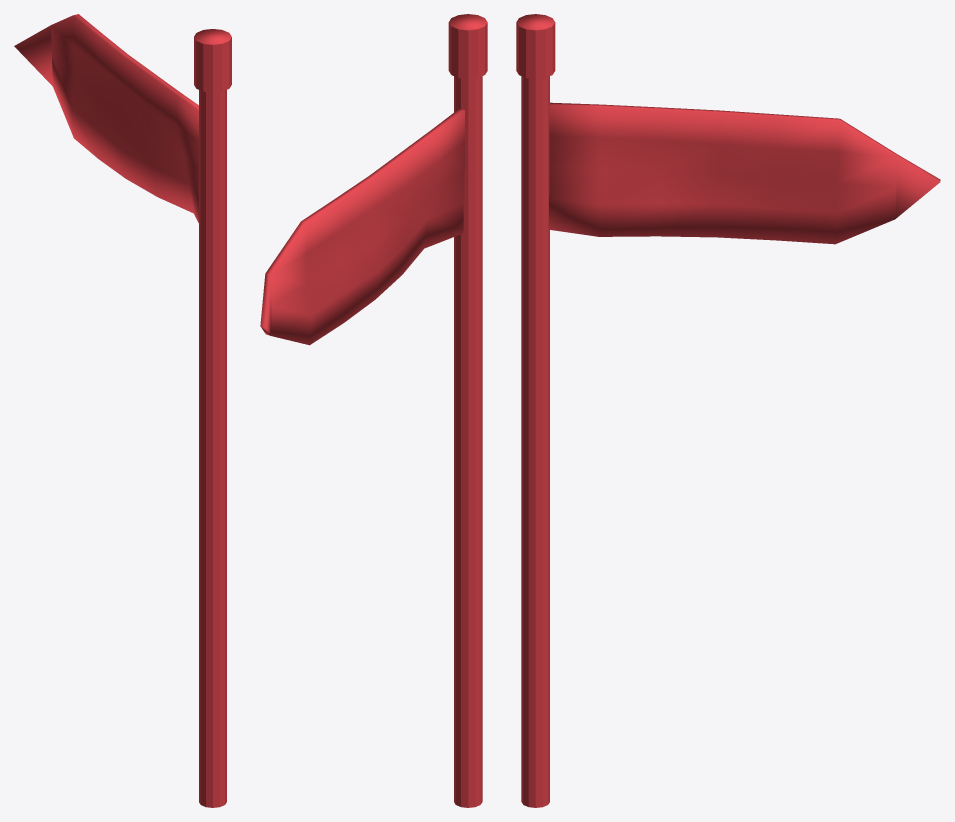
Rendered from Flagpole.fbx.
The picture shows the model from 3 angles, left to right: view 1: azimuth 30°, elevation 25°; view 2: azimuth 150°, elevation 25°; view 3: azimuth 270°, elevation 25°; orthographic projection.
Parts seen in each view (by area): view 1: Cylinder, Plane; view 2: Plane, Cylinder; view 3: Plane, Cylinder.
Part boxes in pixels (x1,y1,x2,y2): Cylinder: (194, 29, 231, 807); Plane: (14, 14, 198, 222); Plane: (260, 109, 465, 345); Cylinder: (448, 14, 487, 807); Plane: (549, 102, 940, 244); Cylinder: (516, 14, 555, 807).
Size of the model in its own units: 0.1041 by 1.97 by 0.9726.
